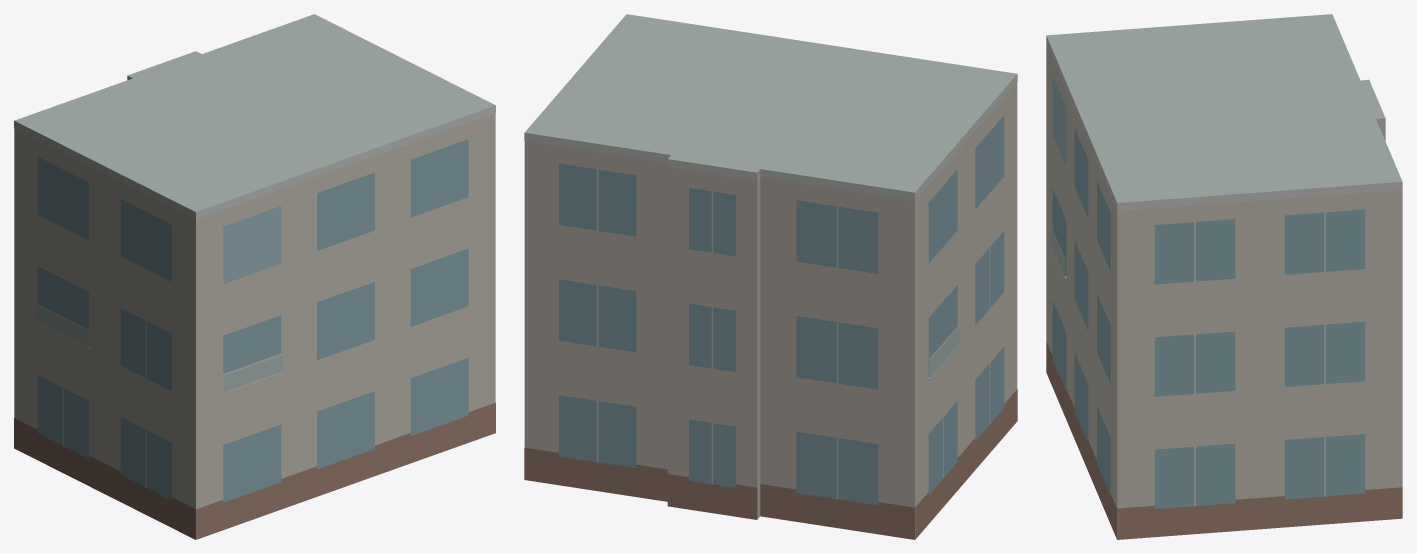
The model's file is survey-upis-32905596.glb.
The picture shows the model from 3 angles, left to right: view 1: azimuth 30°, elevation 25°; view 2: azimuth 150°, elevation 25°; view 3: azimuth 270°, elevation 25°; orthographic projection. The views are drawn at different scales.
Visible parts, largest first — view 1: survey-upis-32905596.tmp; view 2: survey-upis-32905596.tmp; view 3: survey-upis-32905596.tmp.
Boxes of the visible parts, box(x1,y1,x2,y2) form: survey-upis-32905596.tmp: box(14, 14, 495, 539); survey-upis-32905596.tmp: box(524, 14, 1017, 539); survey-upis-32905596.tmp: box(1046, 14, 1402, 539).
Bounding box in the file's own units: 12.29 × 10.2 × 9.79.
